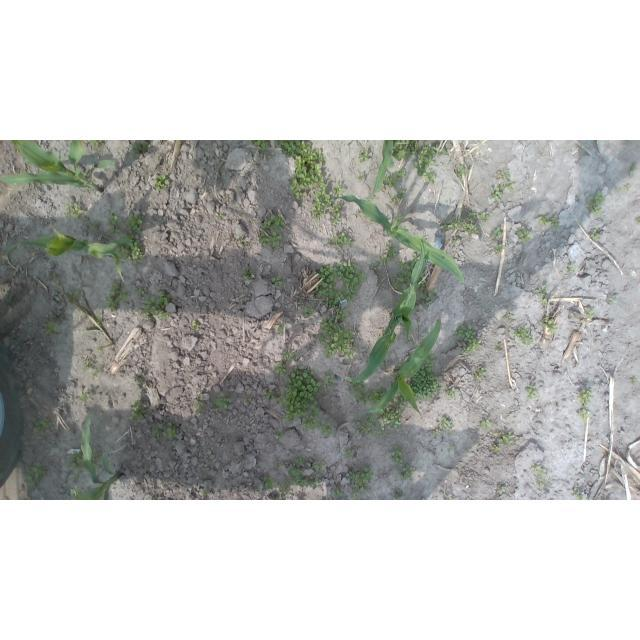Maize: (322, 193, 464, 284), (346, 239, 425, 382), (366, 319, 441, 418), (6, 229, 135, 282), (1, 141, 118, 194), (72, 415, 127, 500), (369, 140, 393, 202)
Weeds: (277, 140, 328, 202), (276, 368, 322, 425), (316, 260, 368, 308), (318, 309, 358, 360), (407, 357, 441, 400), (311, 183, 345, 226), (288, 455, 325, 489), (389, 254, 419, 293), (416, 144, 447, 175), (140, 290, 171, 320), (110, 235, 144, 262), (260, 213, 285, 248), (455, 325, 482, 356), (441, 215, 480, 235), (105, 282, 127, 314), (351, 412, 378, 437), (301, 416, 333, 437), (348, 468, 373, 493), (414, 280, 436, 308), (381, 169, 408, 191), (392, 140, 420, 161), (23, 464, 46, 489), (380, 408, 403, 431), (350, 380, 369, 404), (152, 423, 177, 441), (511, 326, 533, 345), (588, 190, 605, 214), (65, 204, 88, 221), (106, 212, 122, 236), (432, 418, 453, 436), (129, 400, 145, 423), (330, 231, 353, 247), (212, 392, 232, 410), (128, 211, 143, 234), (67, 452, 84, 472), (537, 215, 560, 229), (130, 140, 150, 156), (381, 244, 397, 263), (33, 420, 50, 437), (154, 175, 171, 192), (323, 371, 337, 391), (249, 140, 270, 153), (542, 317, 559, 333), (369, 387, 385, 404), (517, 227, 533, 244), (577, 389, 594, 404), (536, 285, 548, 306), (281, 349, 299, 363), (496, 432, 515, 445), (261, 476, 277, 491), (392, 446, 404, 465), (489, 186, 503, 202), (399, 467, 415, 481), (472, 365, 488, 379), (241, 267, 255, 282), (456, 165, 470, 180), (468, 211, 489, 221), (423, 169, 436, 185), (531, 464, 547, 477), (391, 189, 405, 203), (275, 364, 290, 377), (193, 399, 205, 414), (527, 385, 539, 400), (280, 481, 293, 494), (356, 147, 368, 161), (580, 404, 589, 422), (572, 488, 585, 500), (44, 322, 58, 333), (263, 388, 275, 400), (274, 429, 286, 441), (304, 303, 316, 315), (444, 388, 457, 399), (495, 169, 509, 179), (88, 140, 105, 148), (90, 450, 99, 465), (538, 479, 550, 490), (79, 391, 90, 402), (504, 182, 515, 193), (492, 227, 504, 237), (101, 454, 109, 469), (585, 307, 595, 319), (271, 275, 282, 285), (370, 261, 381, 271), (629, 165, 638, 177), (480, 420, 492, 429), (89, 219, 99, 229), (71, 291, 81, 301), (591, 230, 601, 240), (90, 370, 101, 379), (394, 491, 405, 500), (344, 450, 353, 460), (495, 244, 505, 253), (81, 361, 89, 372), (278, 323, 287, 332), (70, 485, 79, 494), (215, 212, 224, 220), (96, 312, 102, 324), (379, 428, 387, 437), (491, 444, 500, 452), (356, 174, 366, 181), (352, 492, 360, 500), (497, 487, 505, 495), (568, 264, 576, 272), (193, 321, 200, 330), (609, 297, 618, 304), (200, 490, 208, 497), (354, 211, 362, 218), (448, 444, 456, 451), (135, 291, 145, 296), (276, 462, 283, 469), (625, 184, 632, 191), (617, 187, 624, 194), (235, 236, 243, 242), (630, 379, 638, 385), (504, 315, 512, 321), (47, 309, 53, 317), (454, 236, 459, 245), (245, 396, 250, 405), (495, 345, 501, 352), (636, 218, 640, 227), (276, 496, 283, 500), (155, 497, 162, 500), (448, 496, 453, 500), (628, 140, 633, 142)
